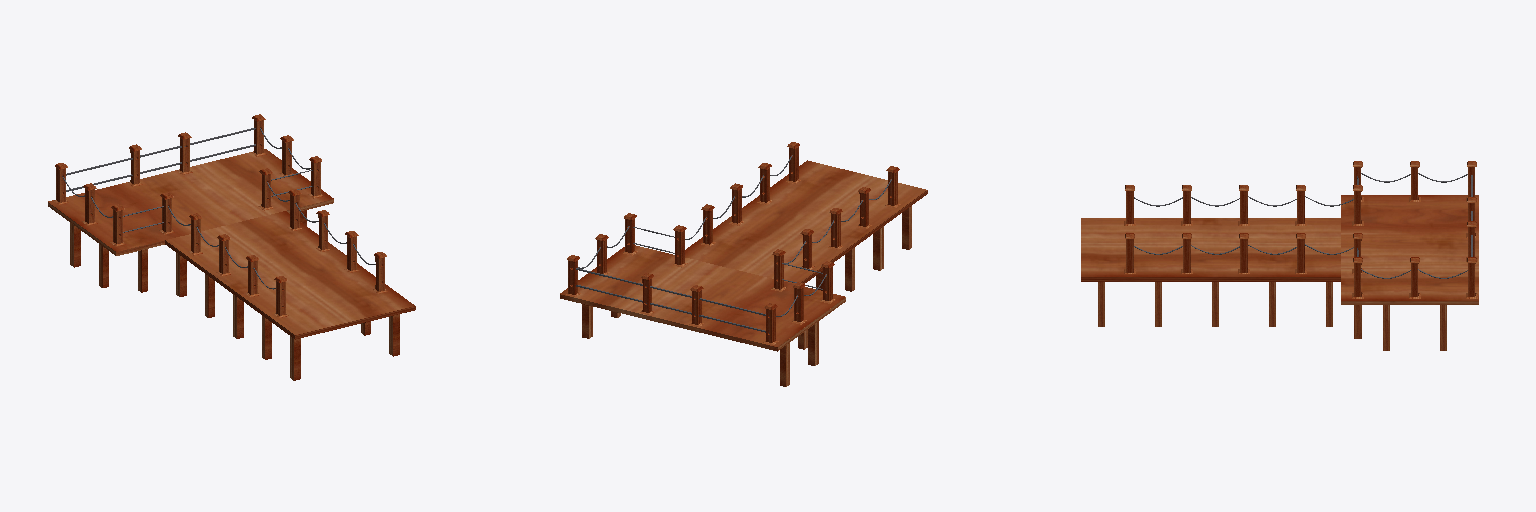
3 views of the same model, side by side, from view 1: azimuth 30°, elevation 25°; view 2: azimuth 150°, elevation 25°; view 3: azimuth 270°, elevation 25° (orthographic).
Visible parts, largest first — view 1: pCube3; view 2: pCube3; view 3: pCube3.
Boxes of the visible parts, <box> form: pCube3: <box>48,149,415,339</box>; pCube3: <box>560,160,927,351</box>; pCube3: <box>1081,195,1478,304</box>.
Size of the model in its own units: 8.83 by 3.5 by 13.96.
Materials: 6 (6 with a texture image).